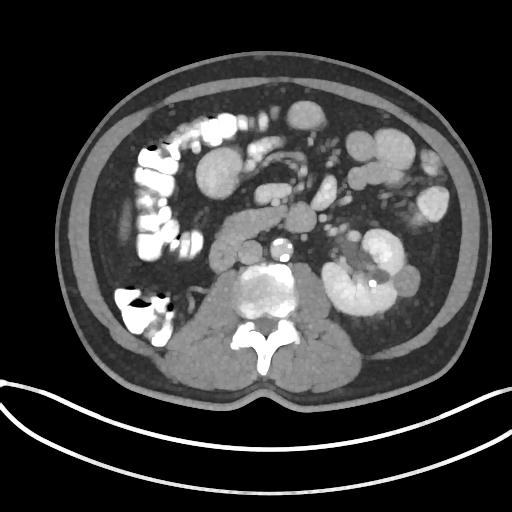Lesion: (391, 266, 421, 300)
